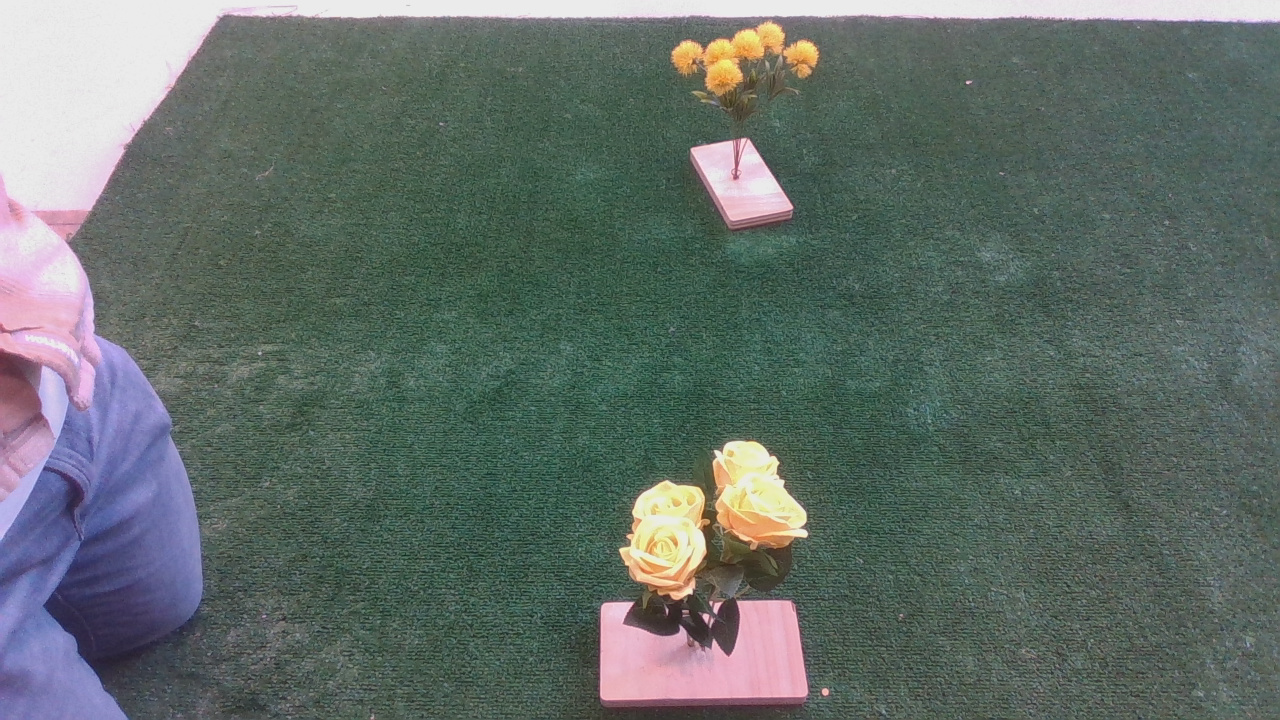dandelion: (660, 29, 843, 134)
rose: (587, 442, 843, 603)
